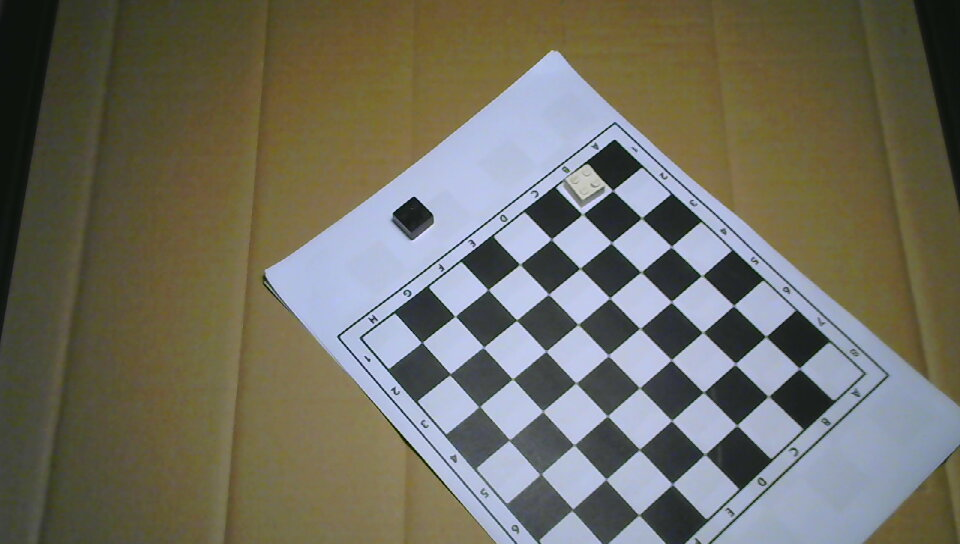bp: (395, 197, 434, 241)
wp: (564, 164, 606, 208)
